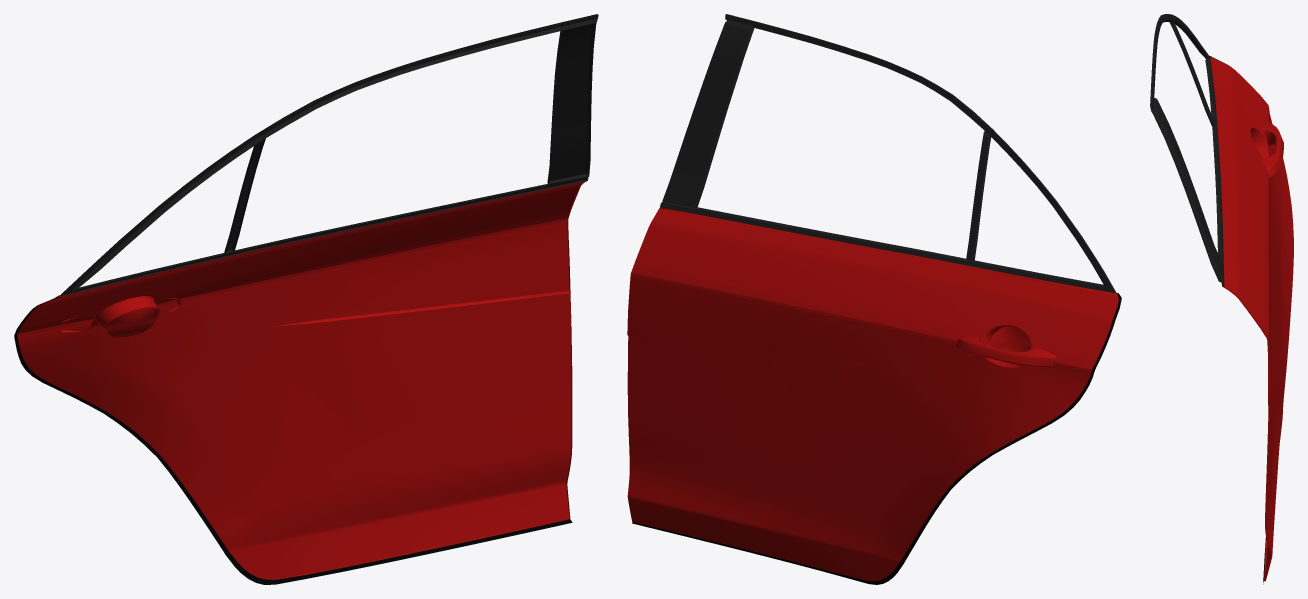
3 renders of one model, left to right at view 1: azimuth 30°, elevation 25°; view 2: azimuth 150°, elevation 25°; view 3: azimuth 270°, elevation 25°, orthographic. The views are drawn at different scales.
Visible parts, largest first — view 1: Y175_18_301B_L_1_DaS_Y175_18_301B_L, Y175_18_301B_L_Y175_18_301B_L_2_D, Y175_18_301B_L_1_DaS_Y175_18_301B_L_E, Y175_18_301B_L_Y175_18_301B_L_3_D; view 2: Y175_18_301B_L_1_DaS_Y175_18_301B_L, Y175_18_301B_L_Y175_18_301B_L_2_D, Y175_18_301B_L_1_DaS_Y175_18_301B_L_E, Y175_18_301B_L_Y175_18_301B_L_3_D; view 3: Y175_18_301B_L_1_DaS_Y175_18_301B_L, Y175_18_301B_L_Y175_18_301B_L_2_D, Y175_18_301B_L_1_DaS_Y175_18_301B_L_E.
Part boxes in pixels (left/top/right/bottom): Y175_18_301B_L_1_DaS_Y175_18_301B_L: left=17, top=182, right=582, bottom=578; Y175_18_301B_L_Y175_18_301B_L_2_D: left=60, top=14, right=598, bottom=296; Y175_18_301B_L_1_DaS_Y175_18_301B_L_E: left=17, top=181, right=586, bottom=579; Y175_18_301B_L_Y175_18_301B_L_3_D: left=14, top=296, right=572, bottom=584; Y175_18_301B_L_1_DaS_Y175_18_301B_L: left=627, top=208, right=1117, bottom=581; Y175_18_301B_L_Y175_18_301B_L_2_D: left=660, top=14, right=1116, bottom=293; Y175_18_301B_L_1_DaS_Y175_18_301B_L_E: left=627, top=207, right=1118, bottom=573; Y175_18_301B_L_Y175_18_301B_L_3_D: left=632, top=293, right=1121, bottom=584; Y175_18_301B_L_1_DaS_Y175_18_301B_L: left=1211, top=57, right=1293, bottom=573; Y175_18_301B_L_Y175_18_301B_L_2_D: left=1150, top=14, right=1224, bottom=286; Y175_18_301B_L_1_DaS_Y175_18_301B_L_E: left=1210, top=57, right=1281, bottom=581.
Bounding box in the file's own units: 118 × 114 × 32.25.
